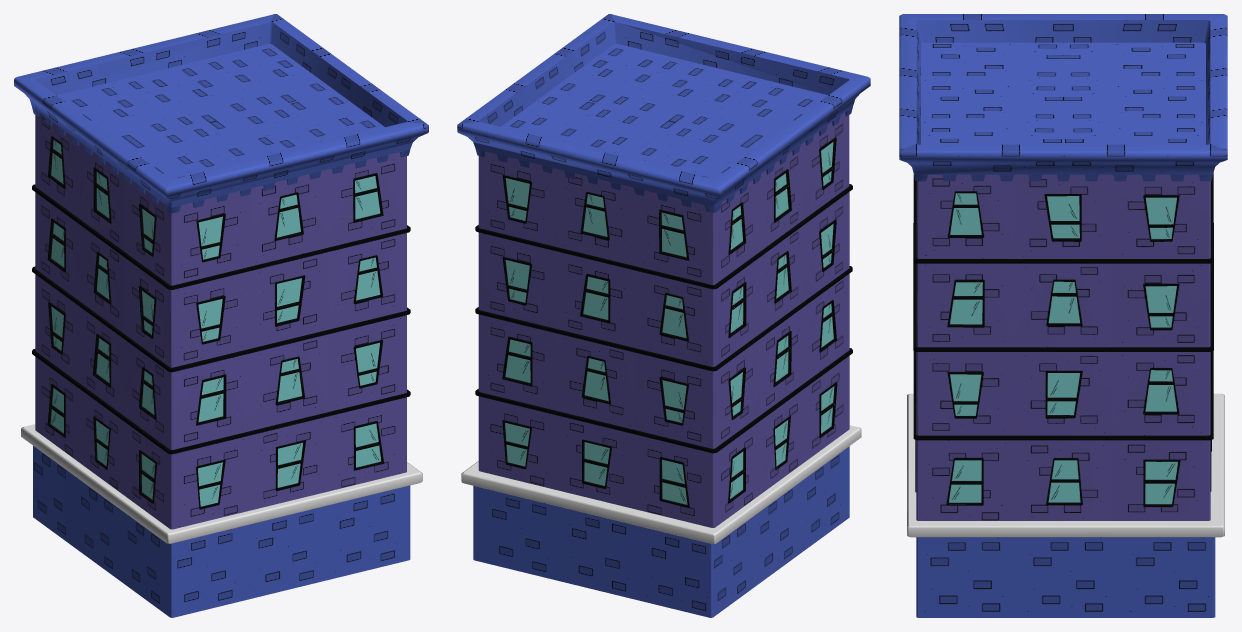
Rendered from 3x4w_Building.fbx.
3 views of the same model, side by side, from view 1: azimuth 30°, elevation 25°; view 2: azimuth 150°, elevation 25°; view 3: azimuth 270°, elevation 25° (orthographic). The views are drawn at different scales.
Parts seen in each view (by area): view 1: 2x005, roof005, ground floor003, bar003; view 2: 2x005, roof005, ground floor003, bar003; view 3: 2x005, roof005, ground floor003, bar003.
Boxes of the visible parts, <box> form: 2x005: <box>32,113,410,529</box>; roof005: <box>14,14,428,213</box>; ground floor003: <box>33,446,410,617</box>; bar003: <box>21,424,422,543</box>; 2x005: <box>475,112,852,527</box>; roof005: <box>457,14,870,212</box>; ground floor003: <box>473,446,849,617</box>; bar003: <box>461,425,861,543</box>; 2x005: <box>913,173,1213,520</box>; roof005: <box>899,14,1227,181</box>; ground floor003: <box>916,537,1215,617</box>; bar003: <box>907,393,1224,537</box>.
Size of the model in its own units: 8.31 by 13.2 by 8.33.
